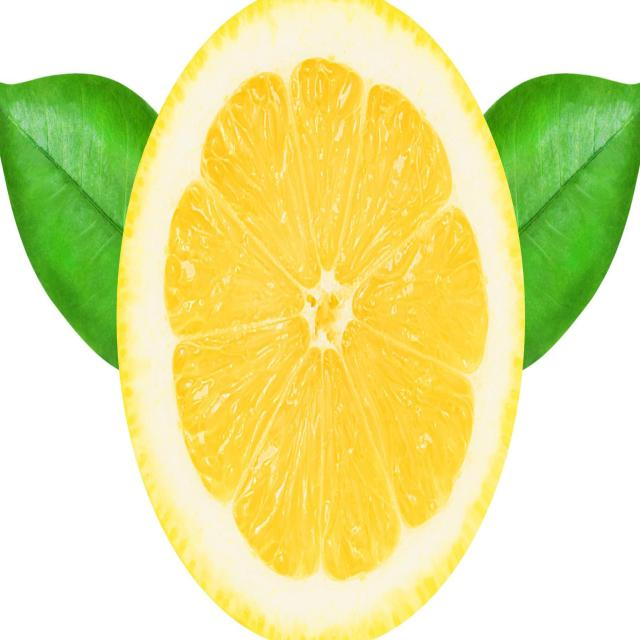lemon: (104, 0, 532, 640)
